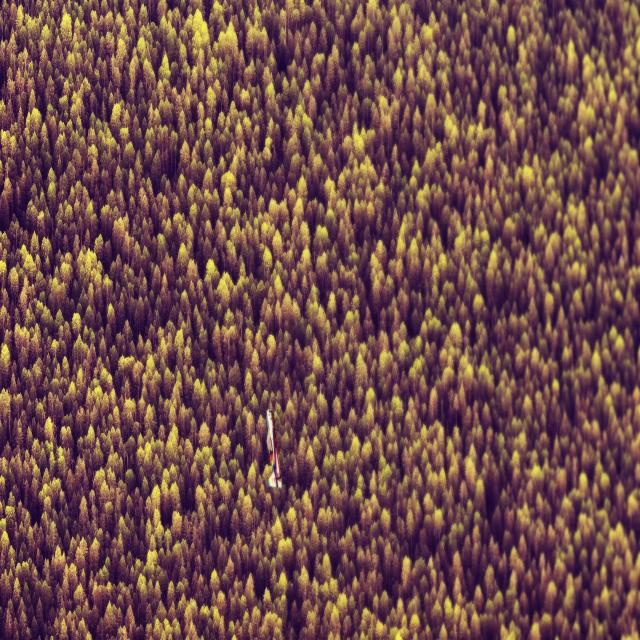airplane: (265, 409, 282, 489)
